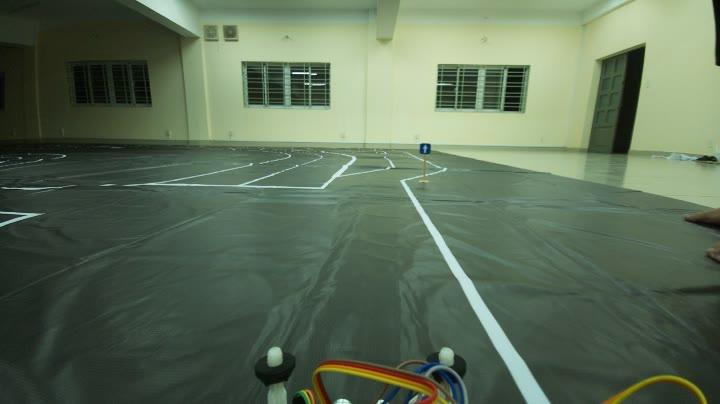onewayroad: (412, 139, 436, 160)
